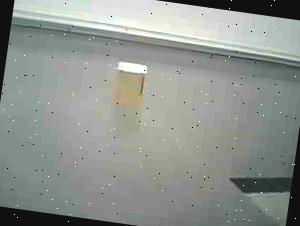Bottle B: (102, 55, 160, 113)
